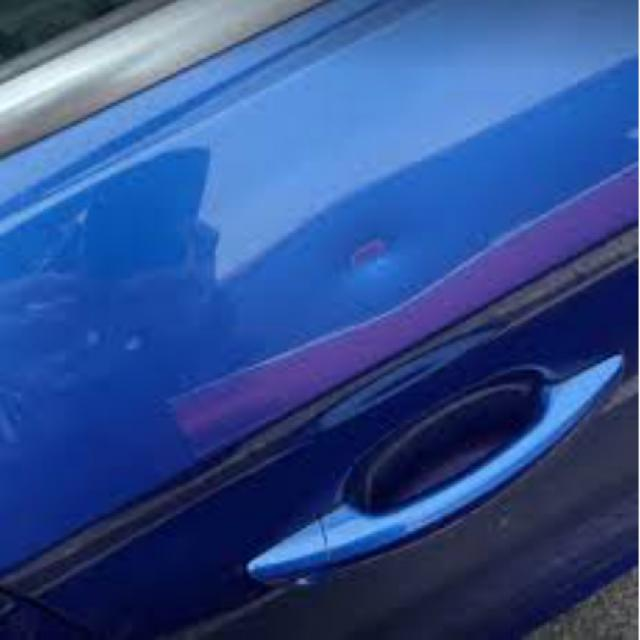dents: (326, 219, 398, 319)
